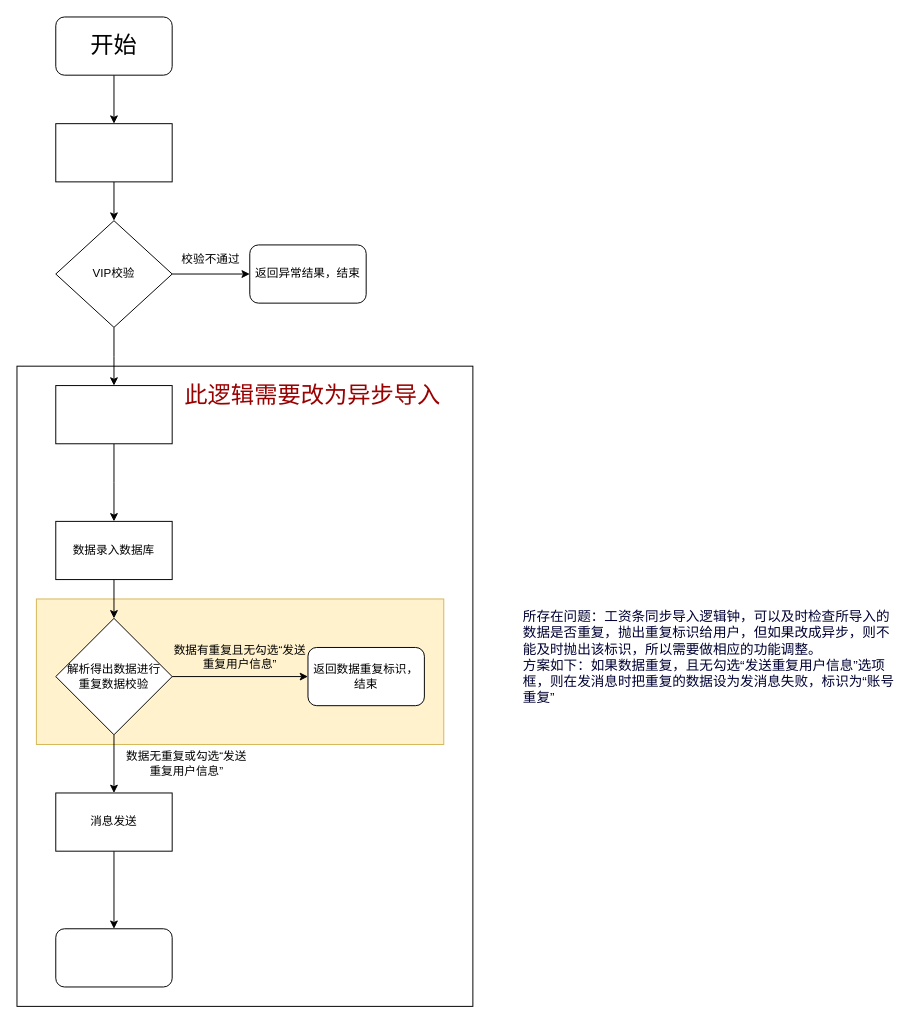
Some shapes in this 917 by 1023 pixel diagram are drawn without their labels. Each missing label, with the centre of its shape:
"Excel解析" goes at point (113, 414).
"结束" goes at point (113, 957).
"页面上传Excel文件" goes at point (113, 152).
